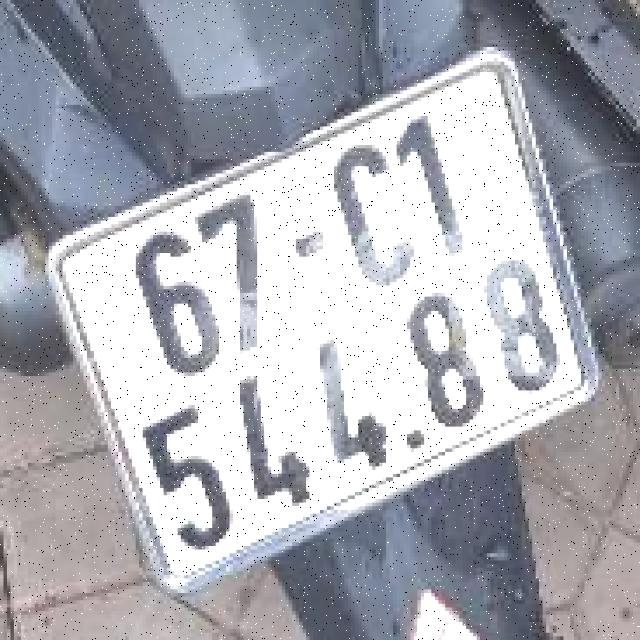1: (388, 98, 496, 284)
4: (216, 354, 331, 532), (293, 322, 405, 497)
5: (124, 394, 249, 568)
6: (122, 217, 237, 394)
7: (187, 184, 287, 369)
8: (390, 278, 505, 448), (470, 240, 581, 414)
C: (314, 128, 432, 311)
